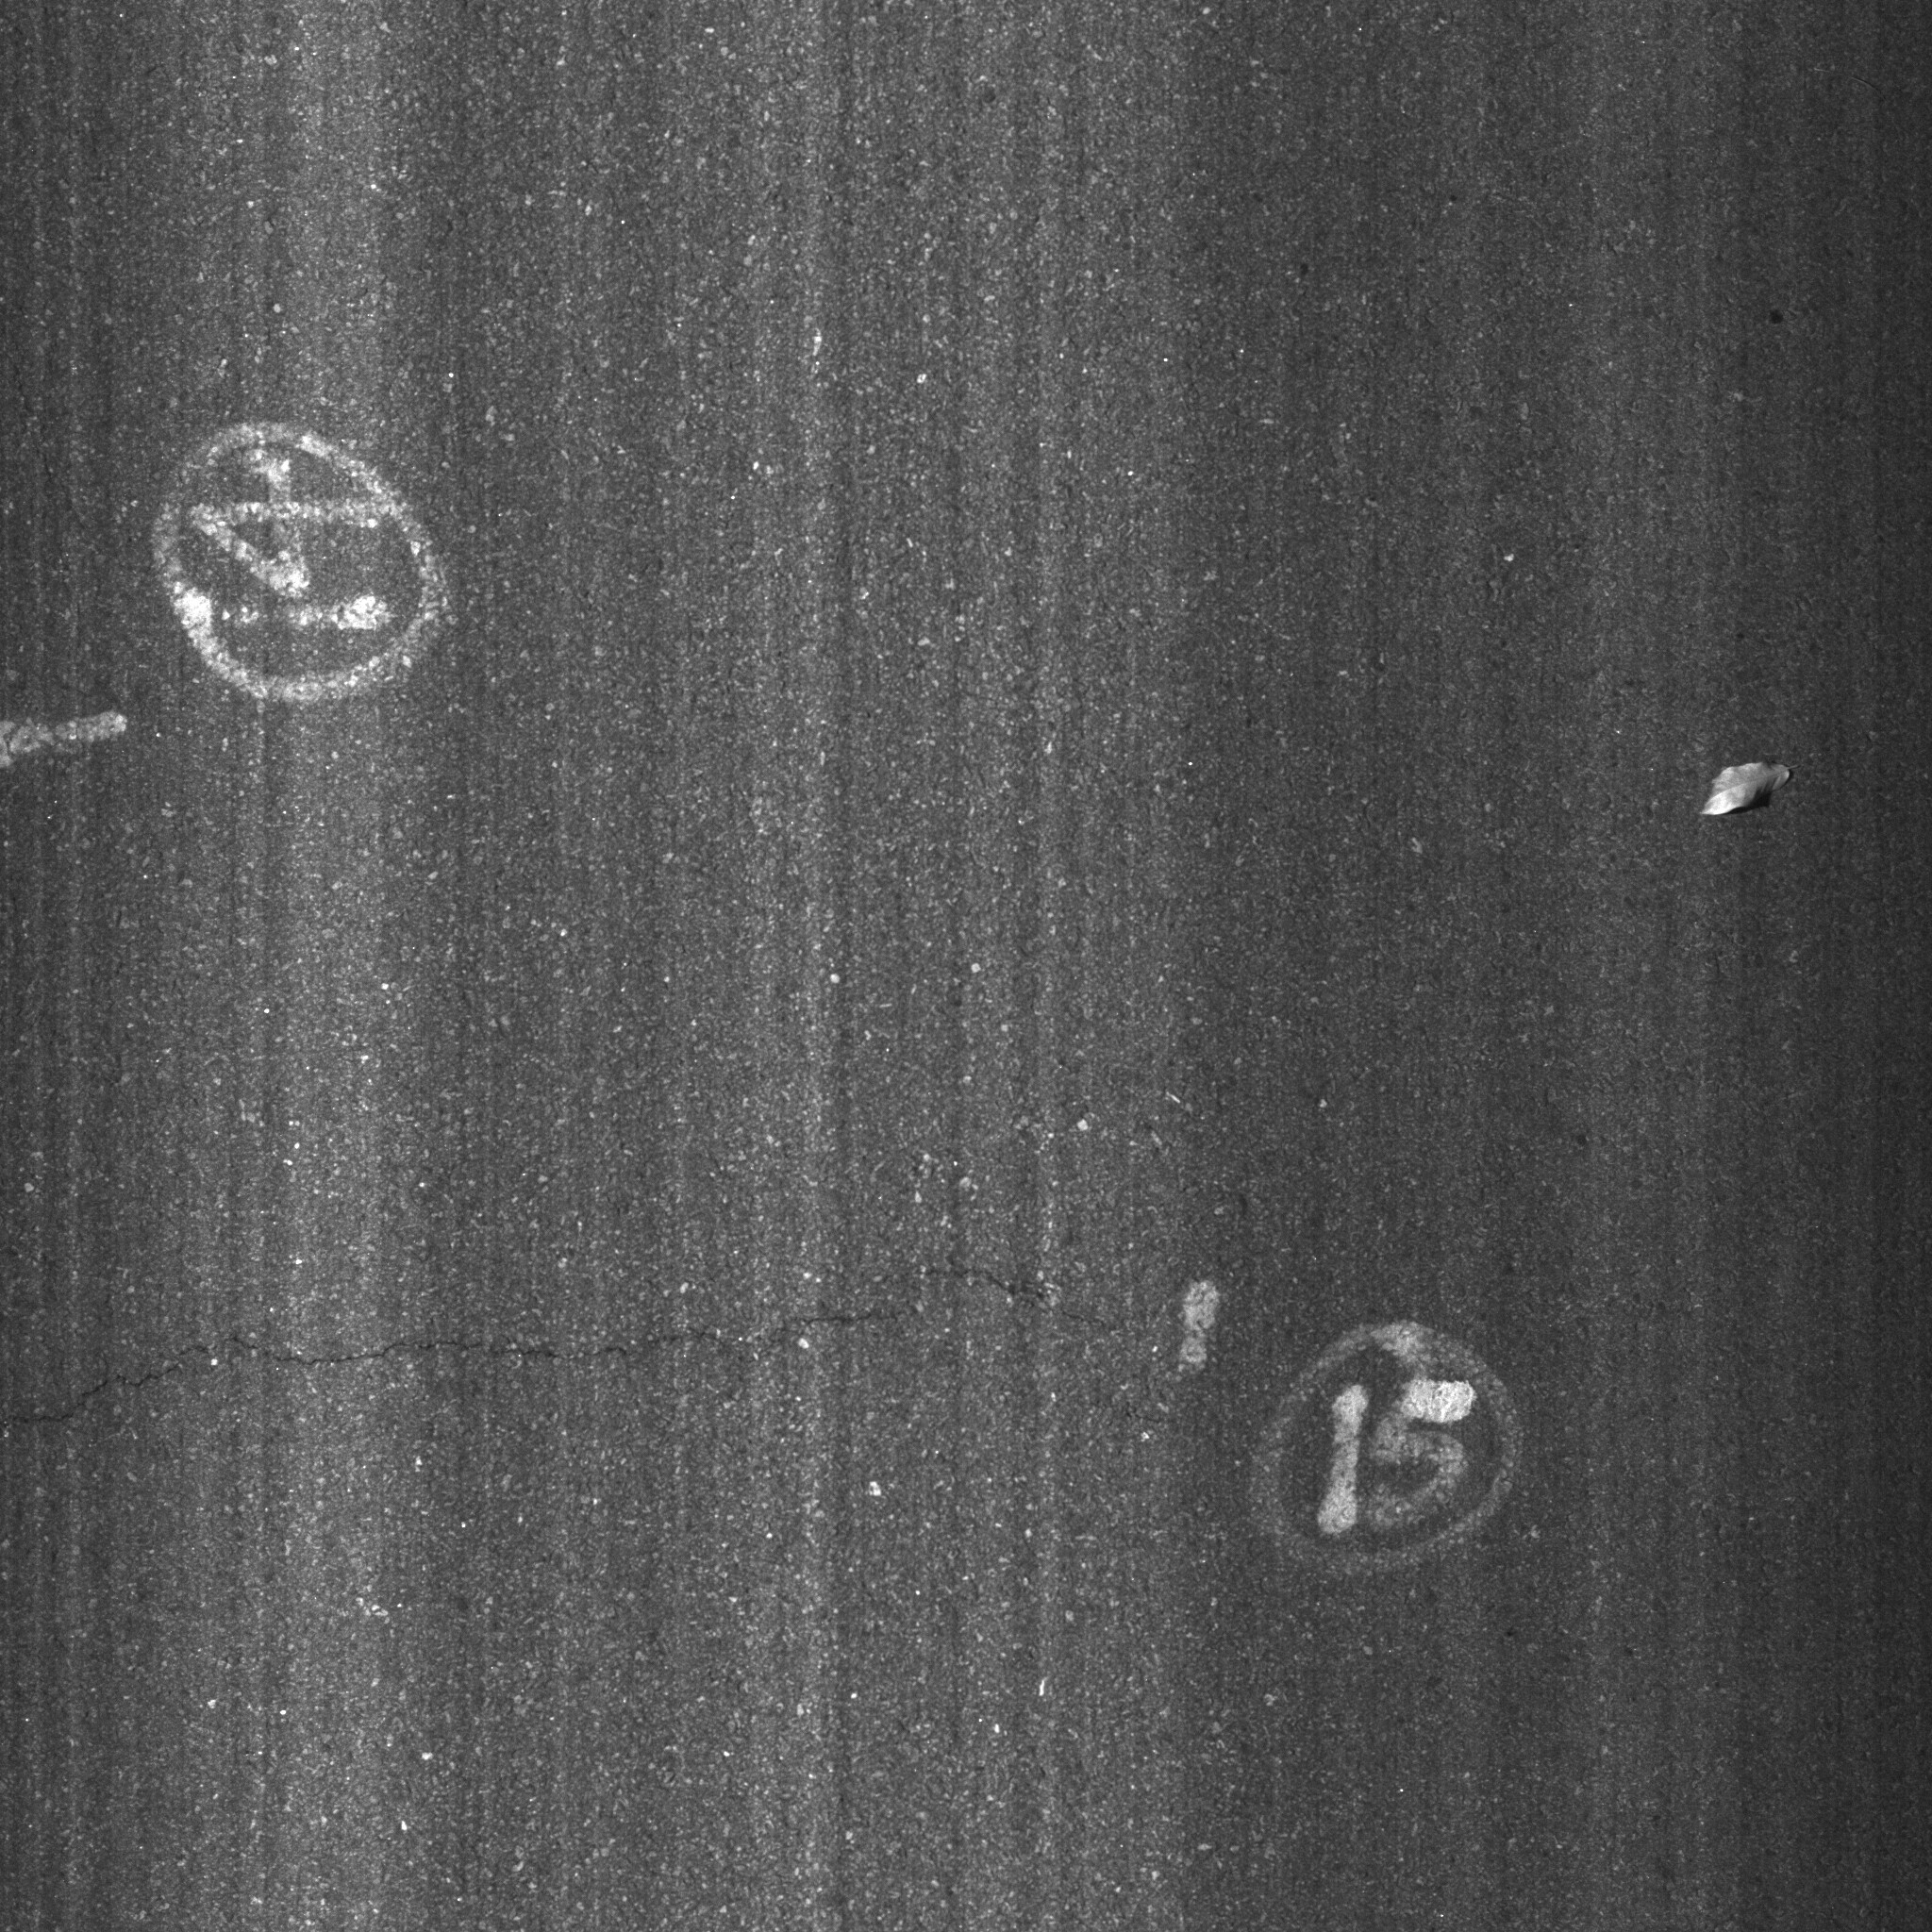transverse: (4, 1212, 1148, 1460)
